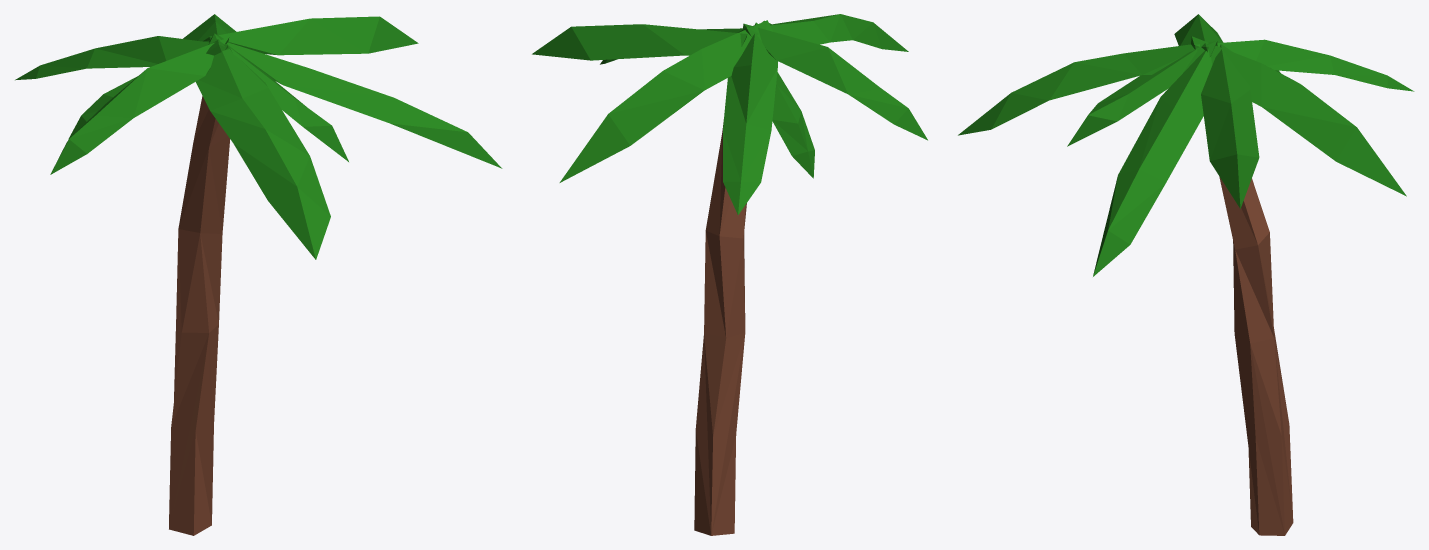
The model's file is Tree_13_summer_mat.fbx.
3 renders of one model, left to right at view 1: azimuth 30°, elevation 25°; view 2: azimuth 150°, elevation 25°; view 3: azimuth 270°, elevation 25°, orthographic. The views are drawn at different scales.
Parts seen in each view (by area): view 1: Tree_13_summer_mat; view 2: Tree_13_summer_mat; view 3: Tree_13_summer_mat.
Part boxes in pixels (bbox=[...]): Tree_13_summer_mat: bbox=[15, 14, 502, 535]; Tree_13_summer_mat: bbox=[532, 14, 927, 535]; Tree_13_summer_mat: bbox=[958, 14, 1414, 535].
Bounding box in the file's own units: 7.58 × 9.3 × 7.91.
